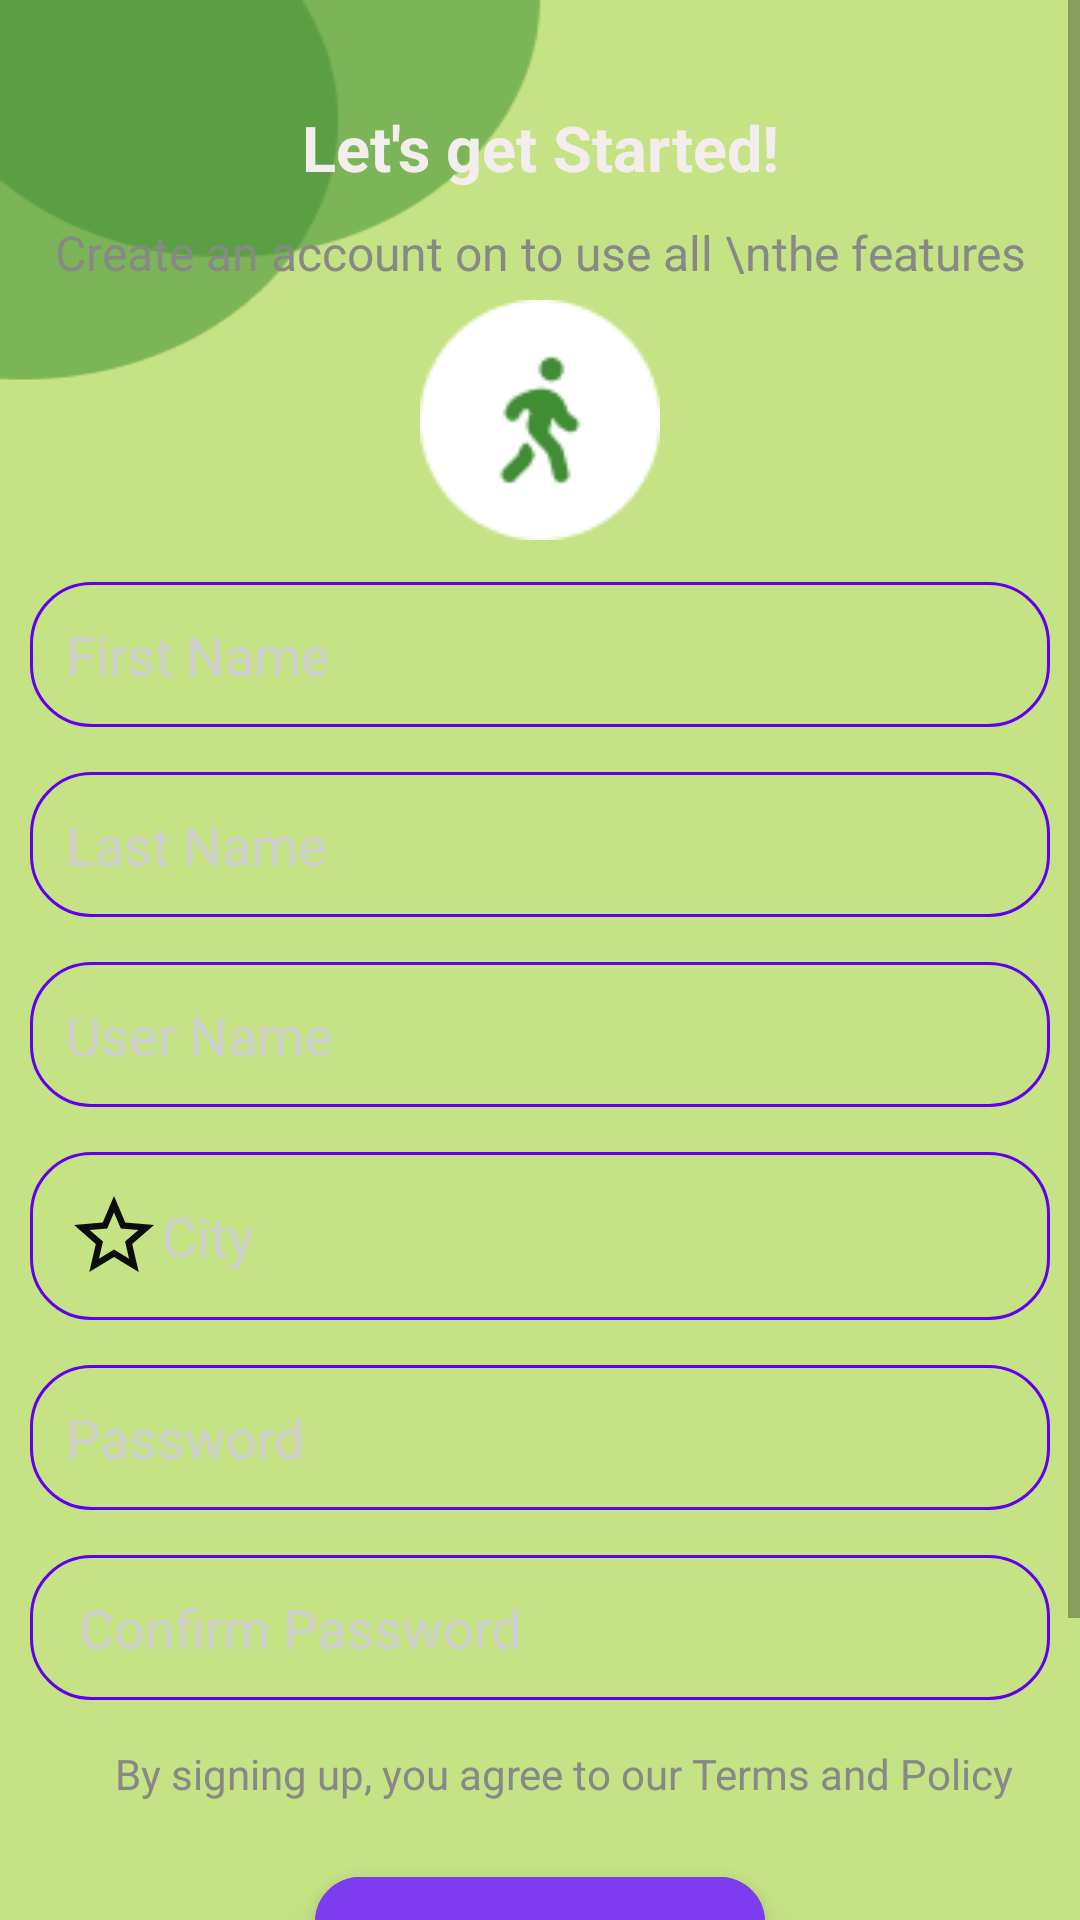

Screen size 1080w x 1920h. Icon name, then its center in pixels as point (x, y):
walk: point (540, 420)
